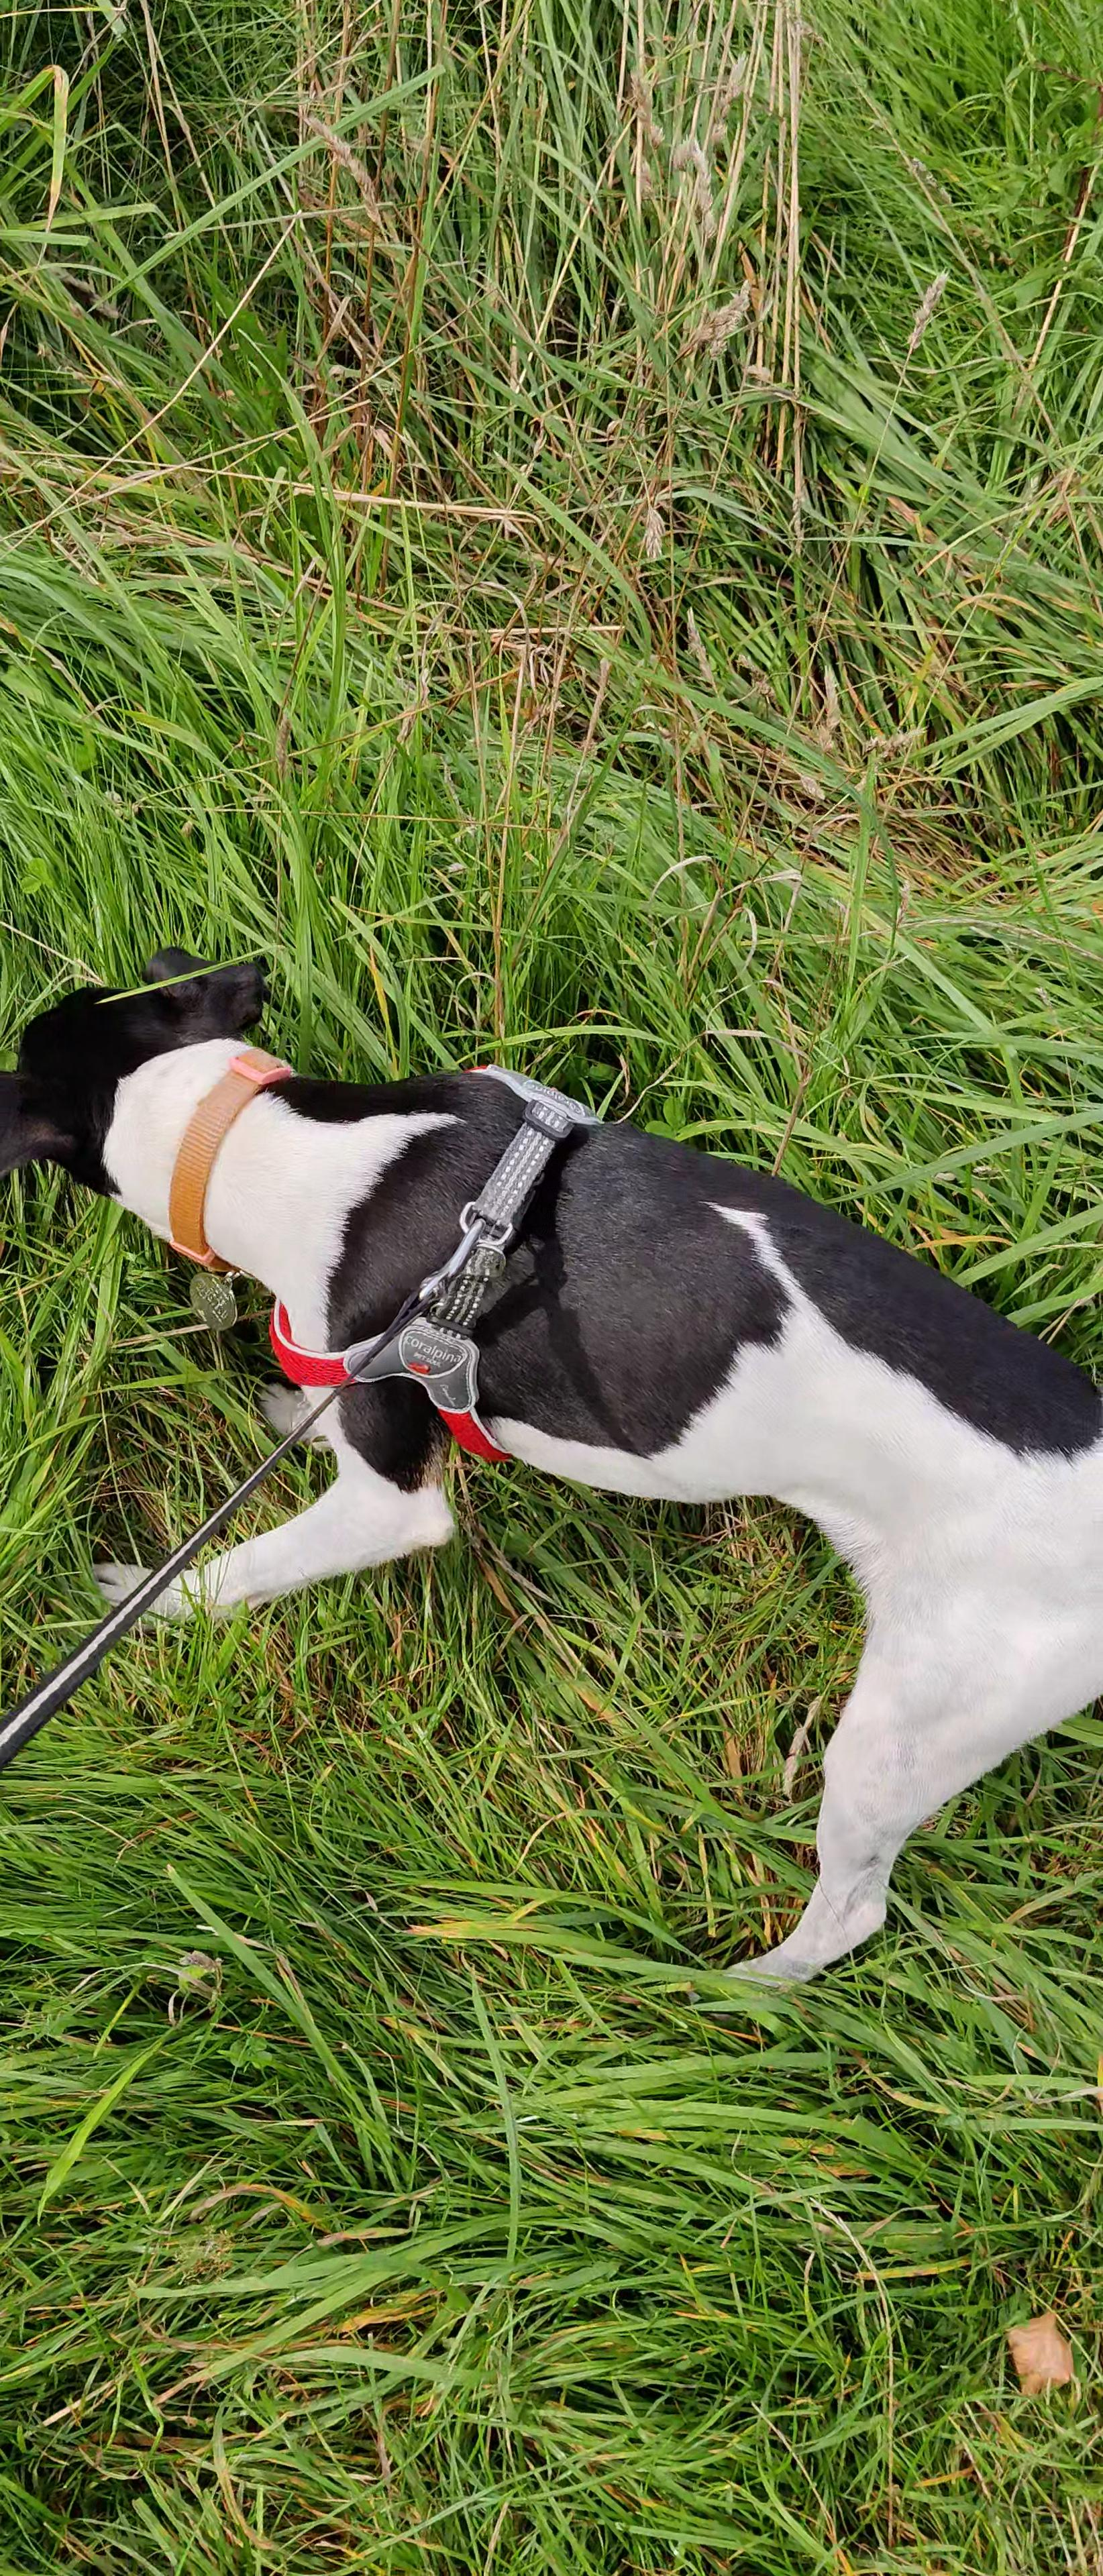Dog: (0, 915, 1103, 1989)
